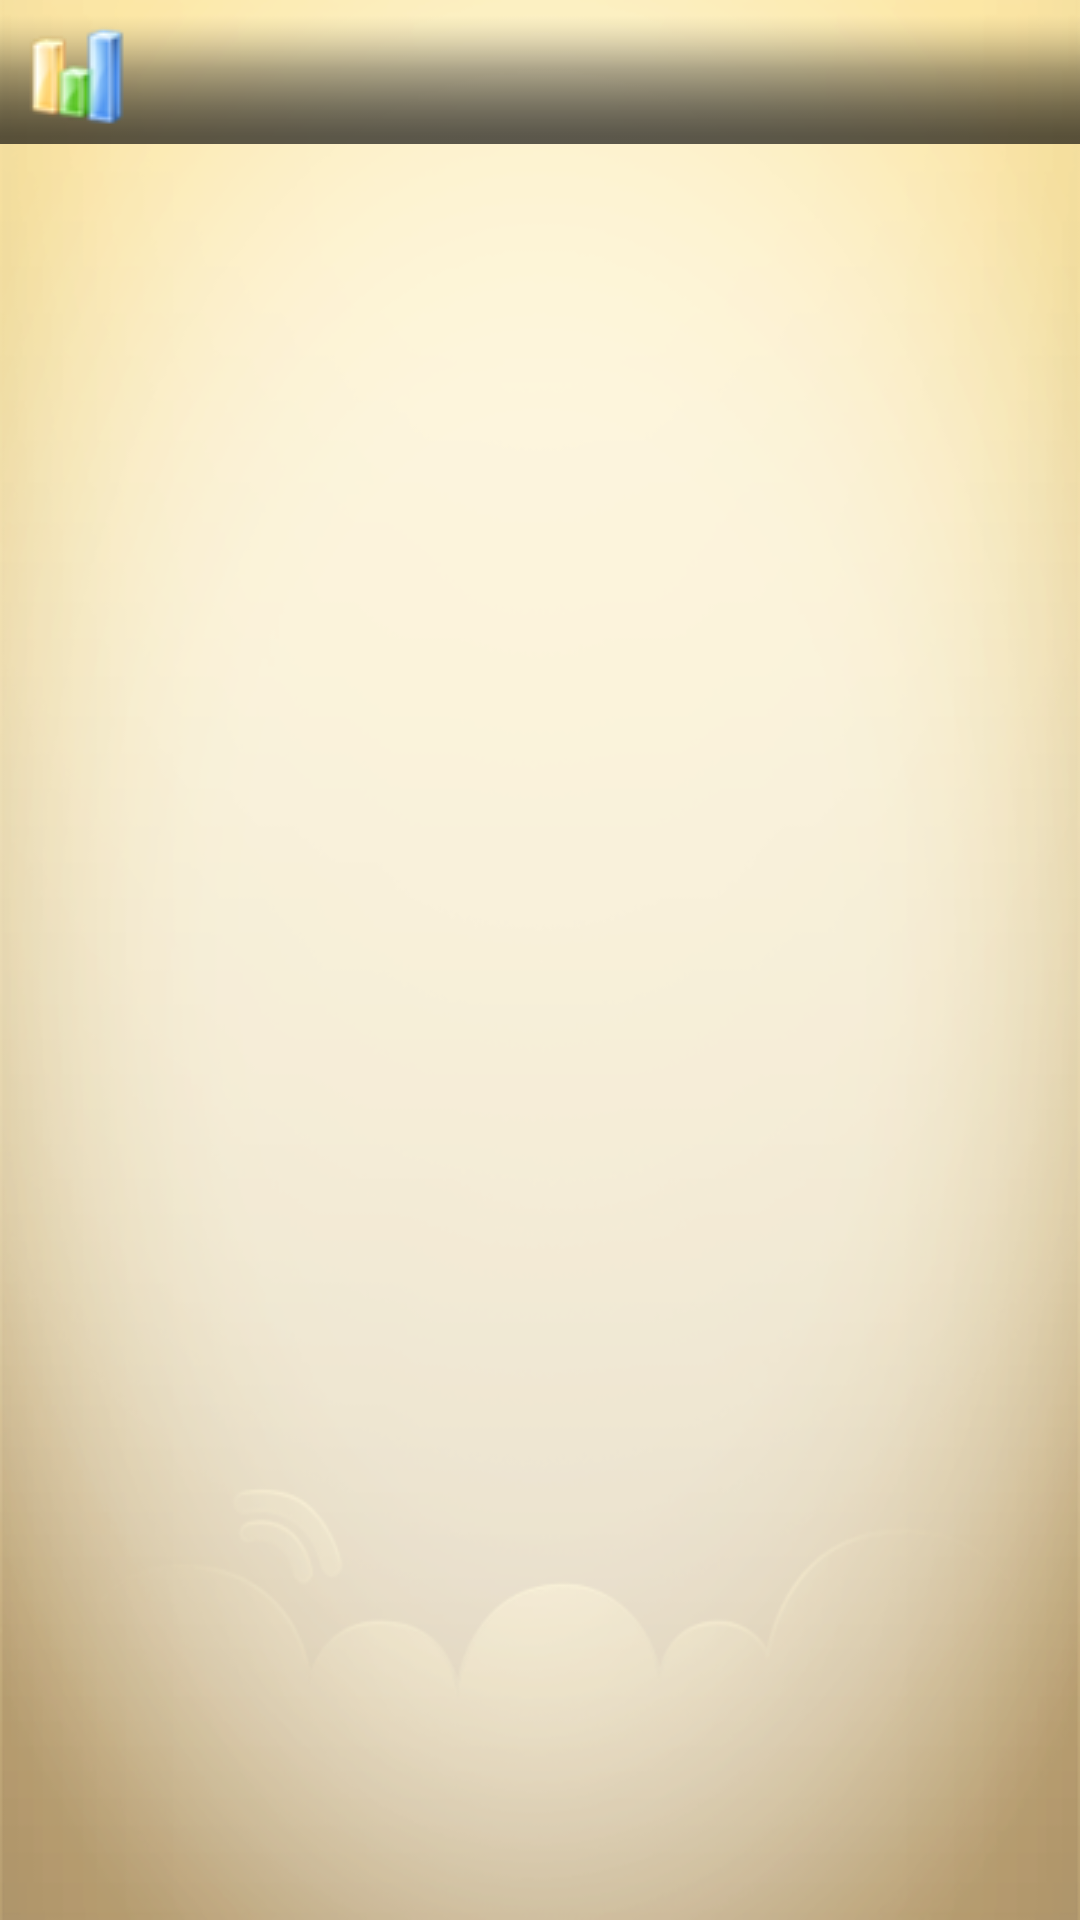

Icons on this 1080px x 1920px Android screen, each with the point to tap as (x,y):
chart: (72,86)
